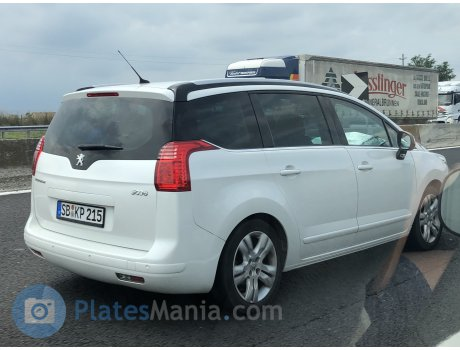License Plates: (49, 199, 107, 224)
